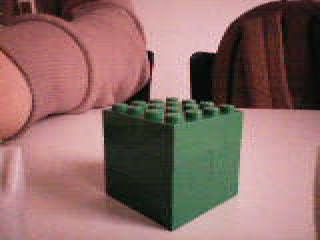legocube: (99, 94, 245, 234)
